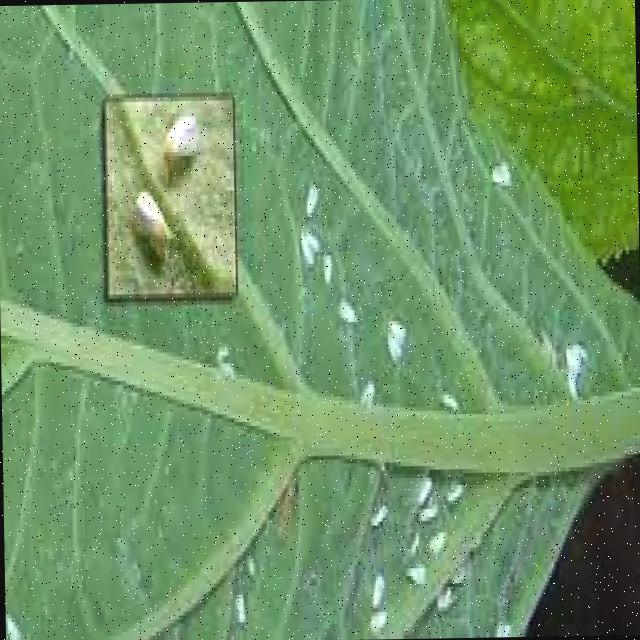whitefly: (302, 146, 593, 640), (104, 94, 233, 292)
